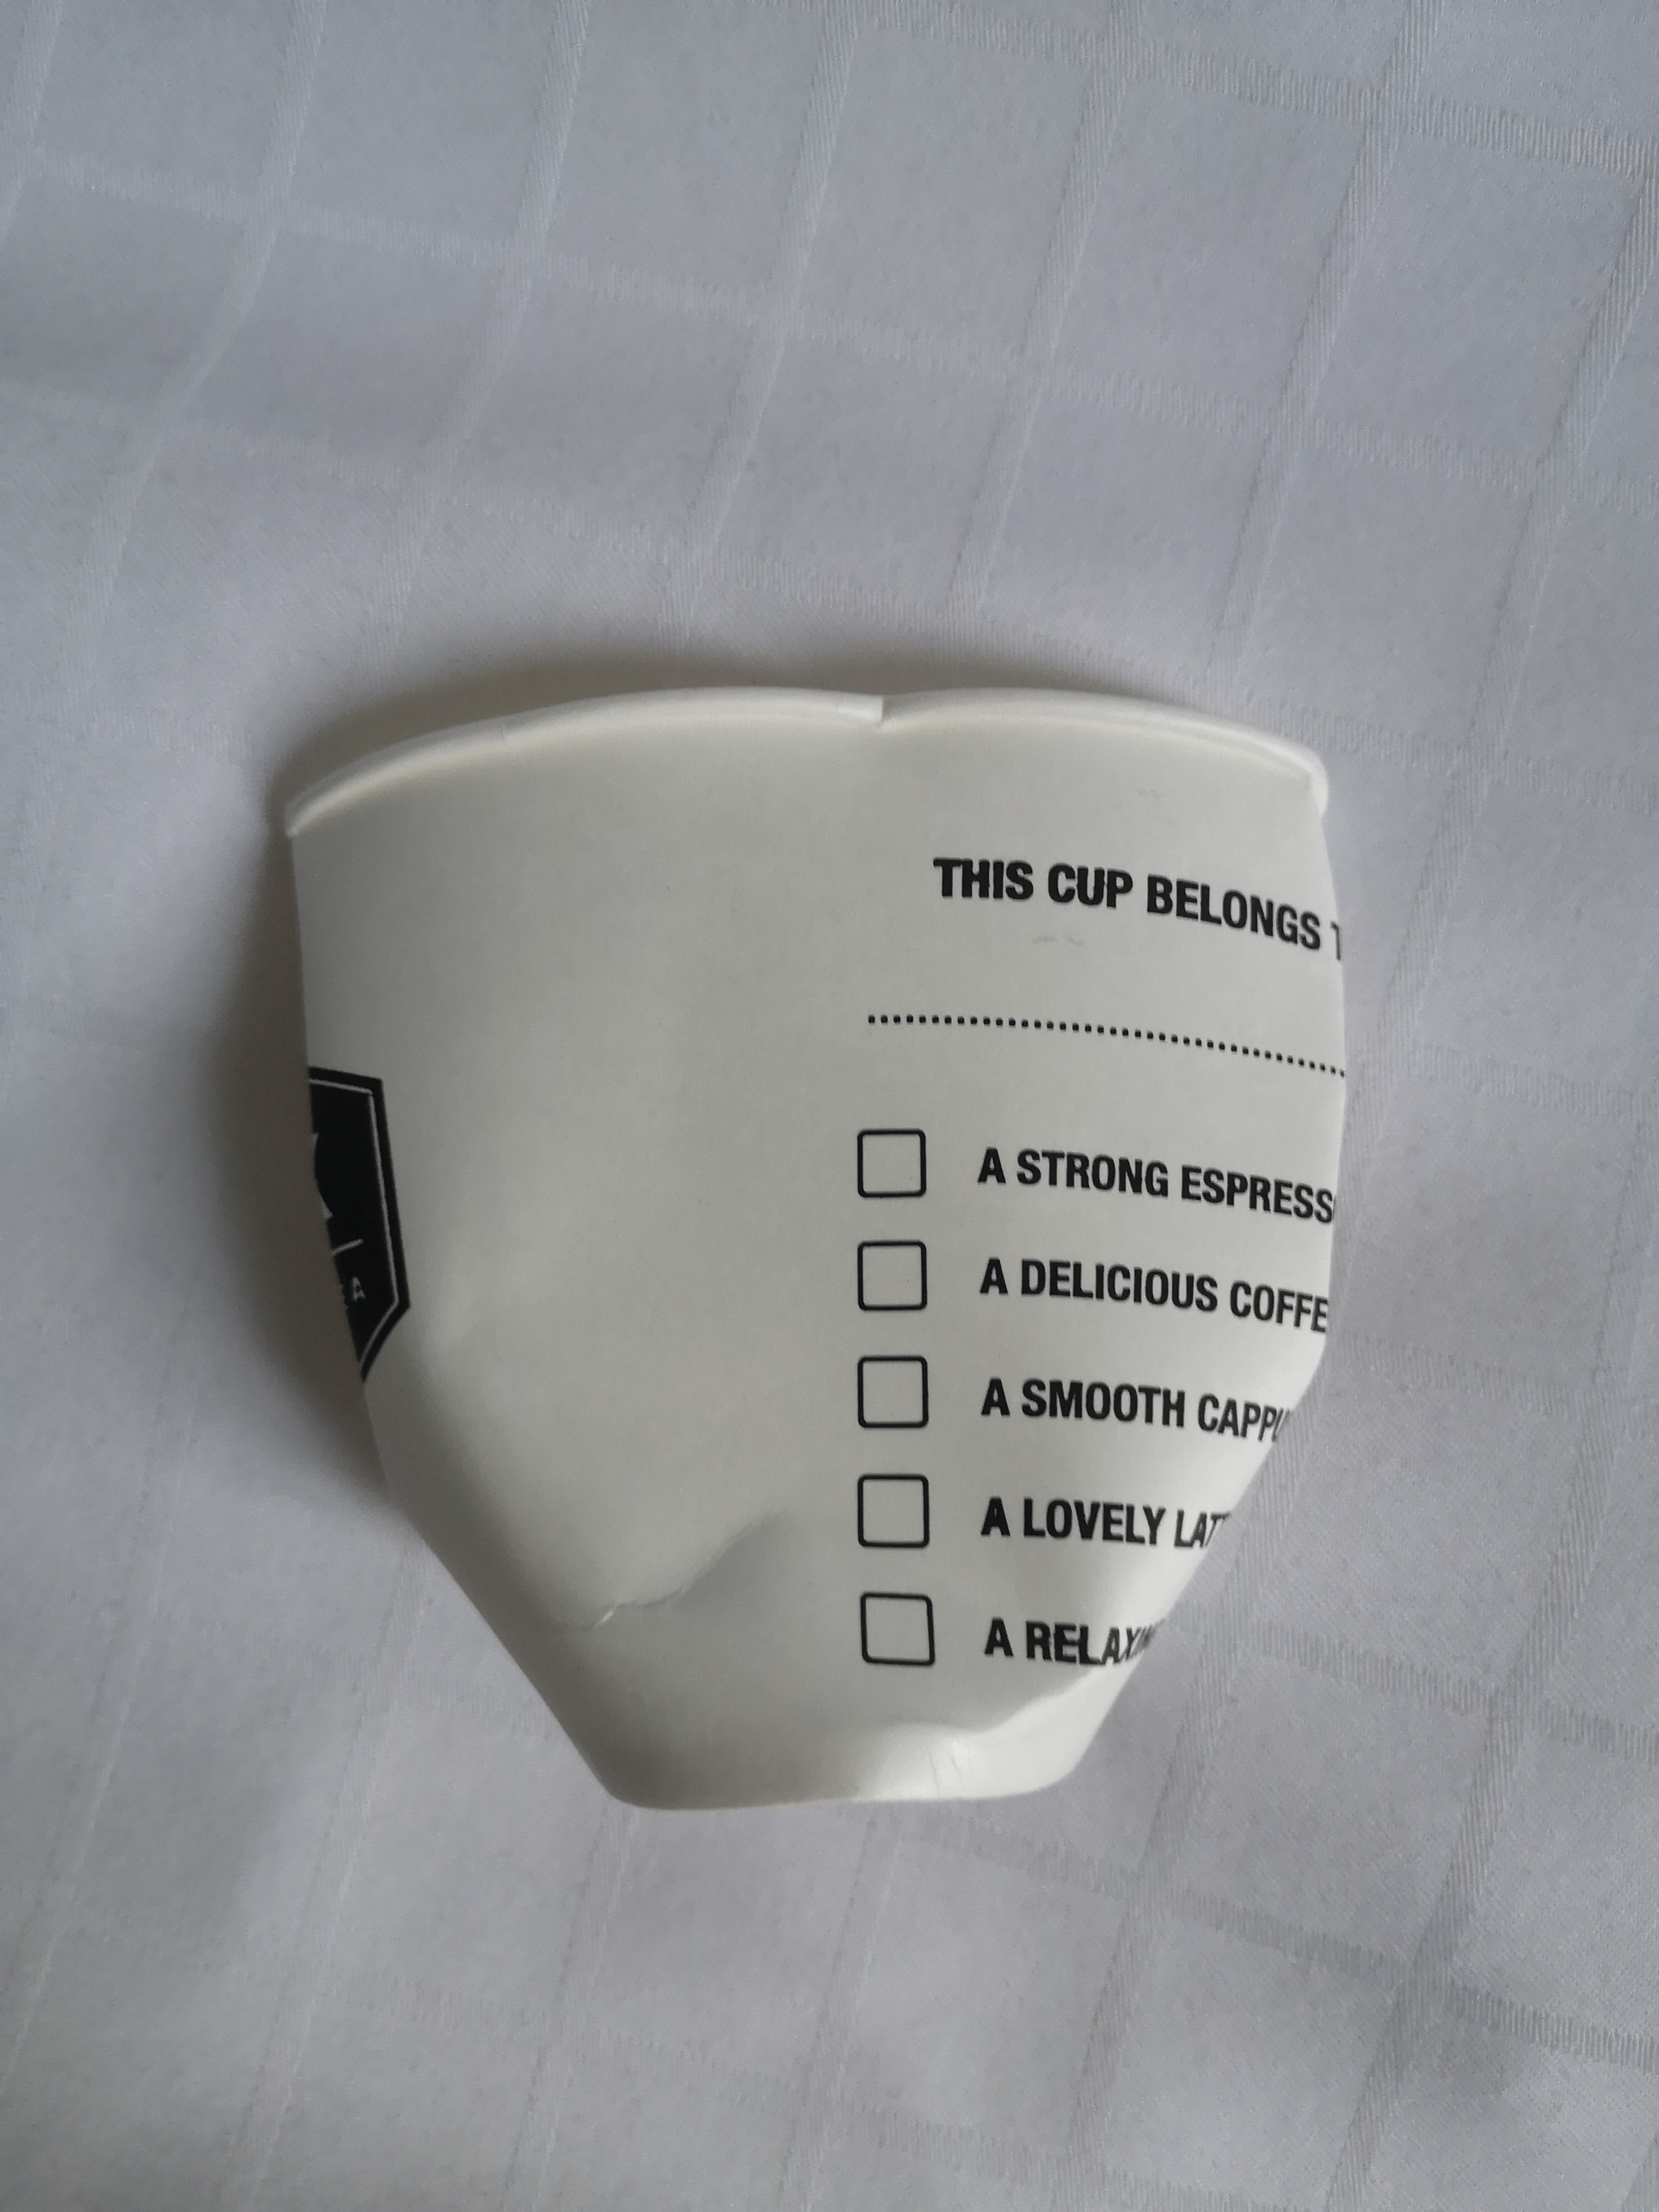cup: (251, 604, 1403, 1860)
